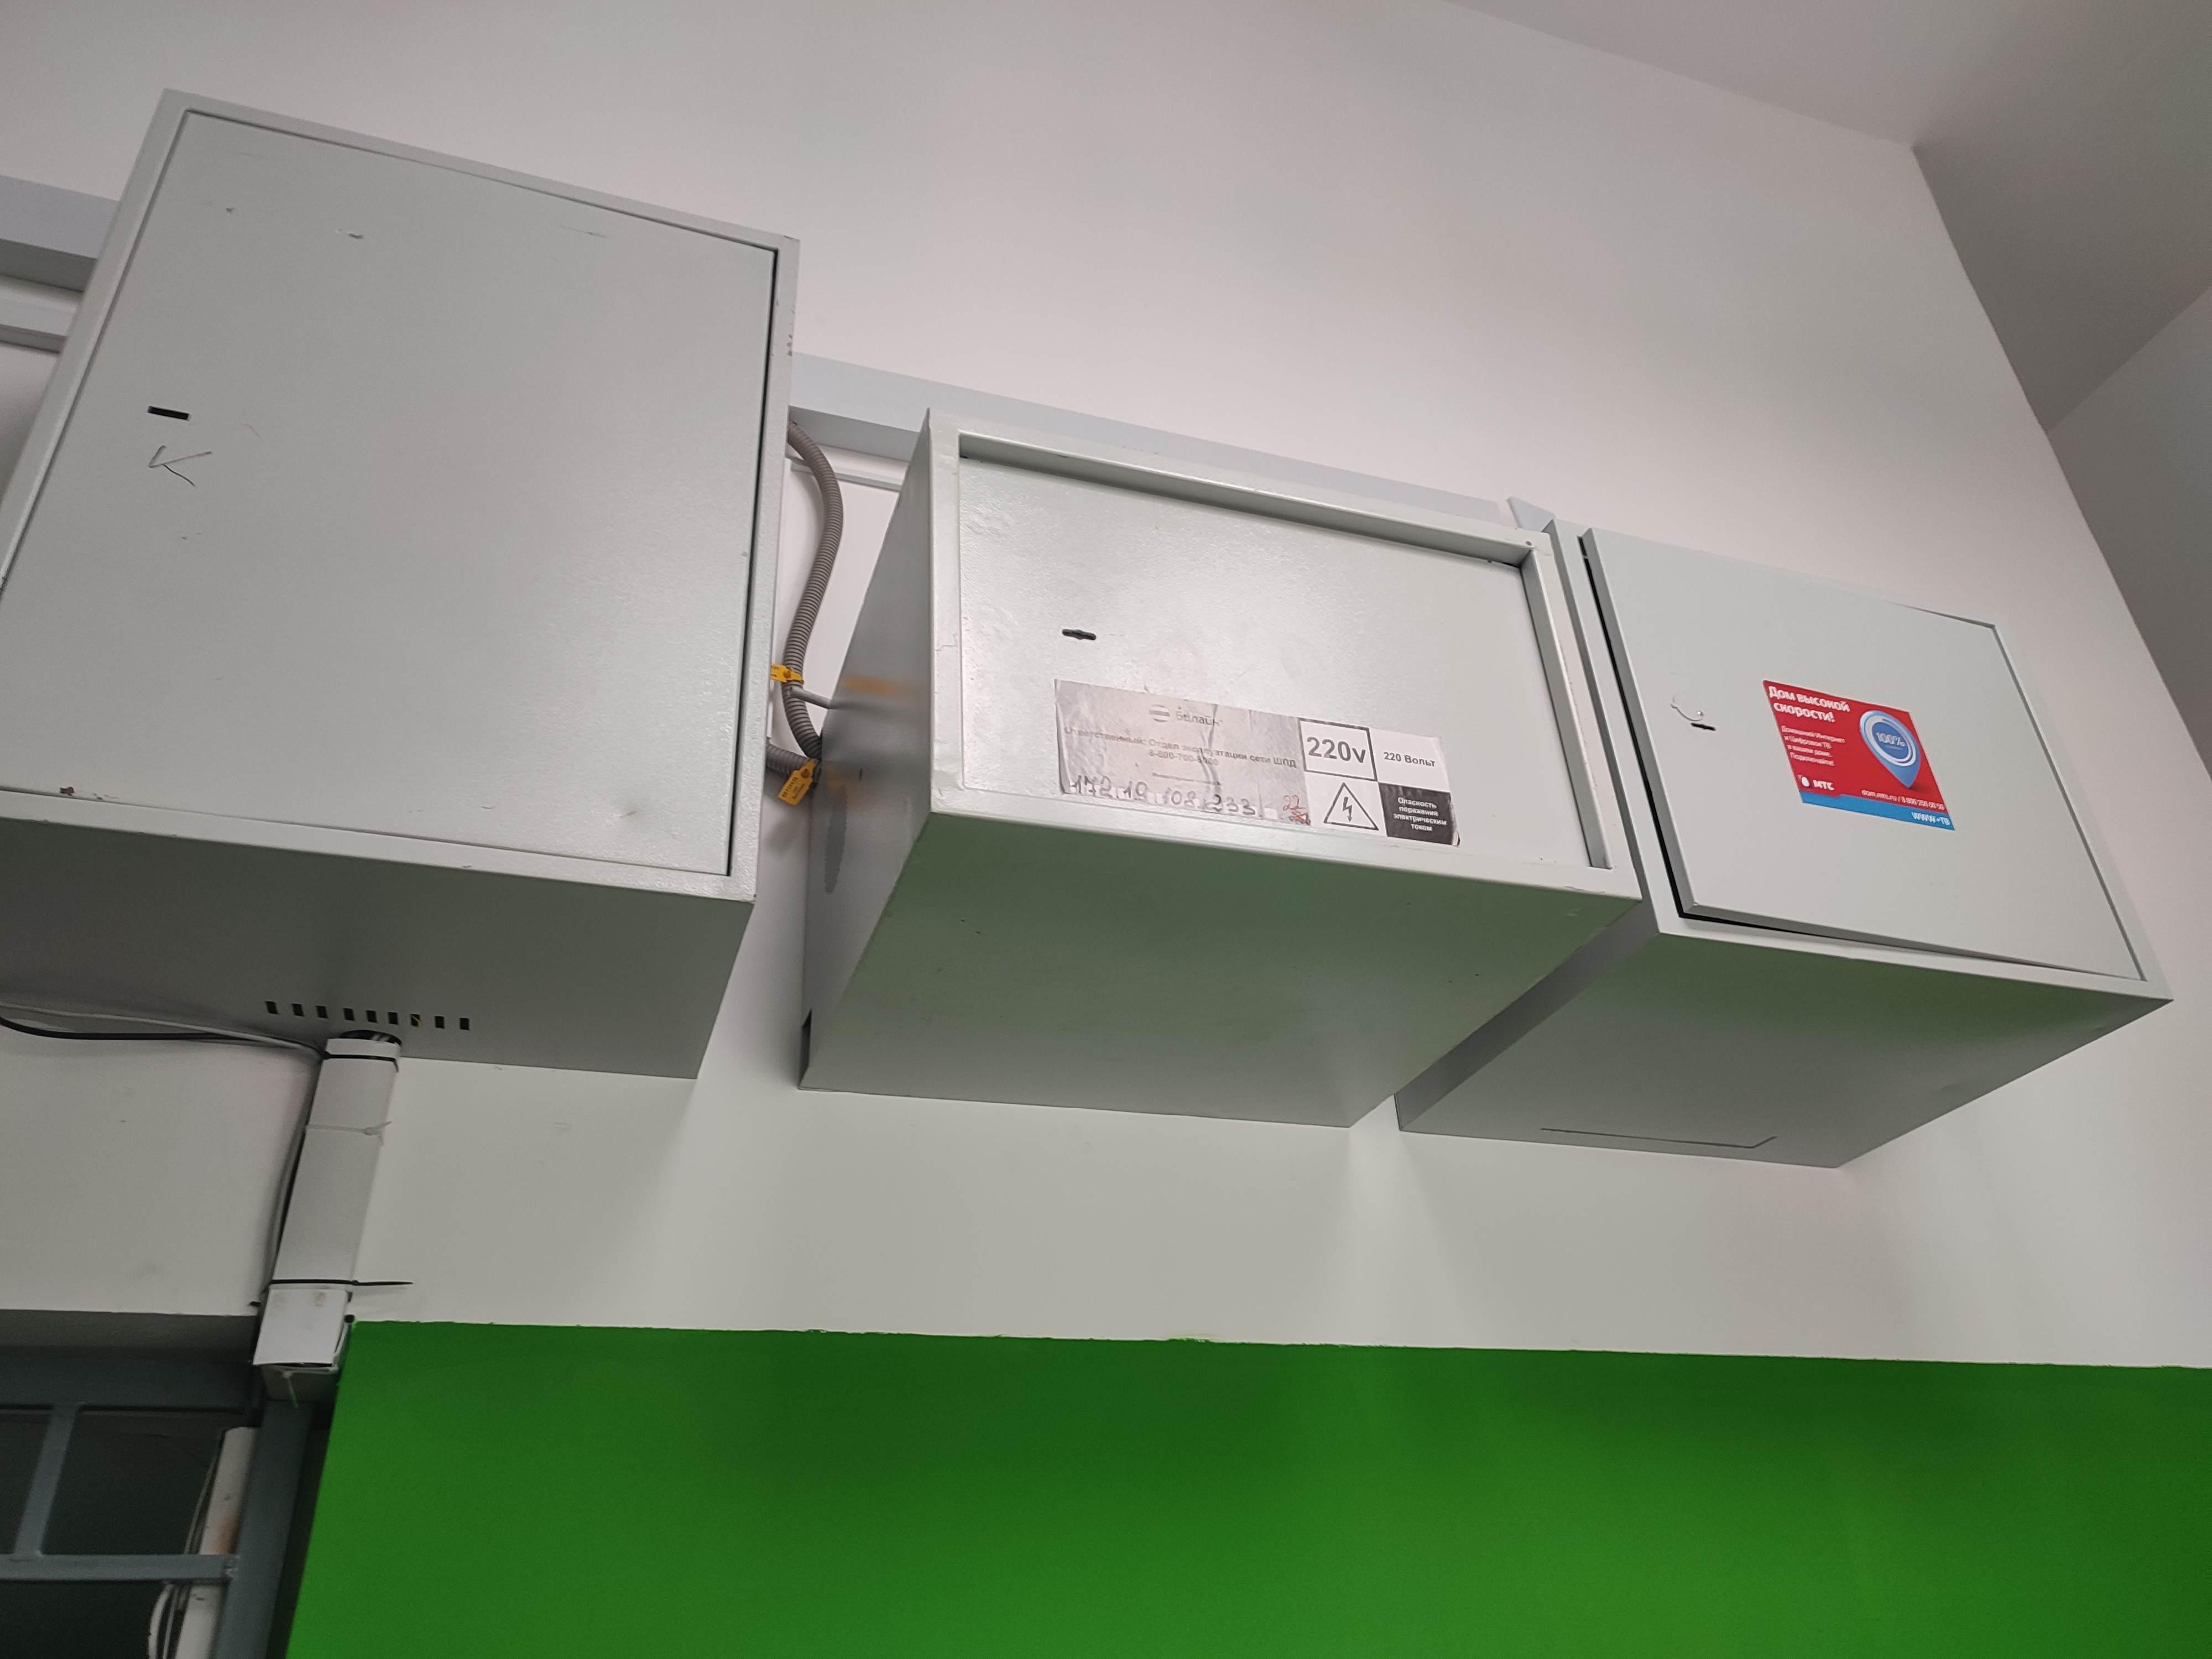shta-7m: (794, 399, 1646, 1134)
